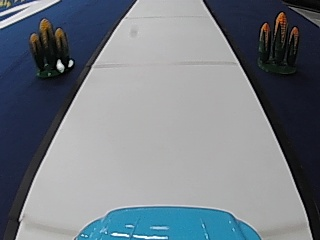corn: (255, 8, 300, 74), (28, 16, 75, 78)
